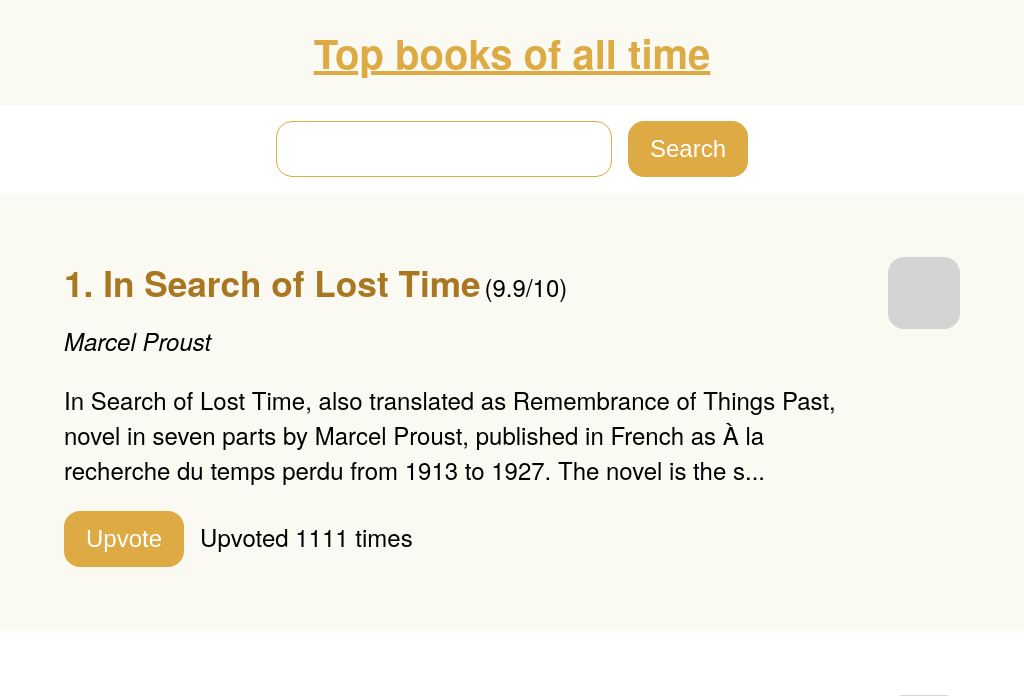
Test: Top books › Checks if search filters the list
This screenshot has width=1024, height=696.
Step 1. Type "if" into the field → (444, 149), box [276, 121, 612, 177]
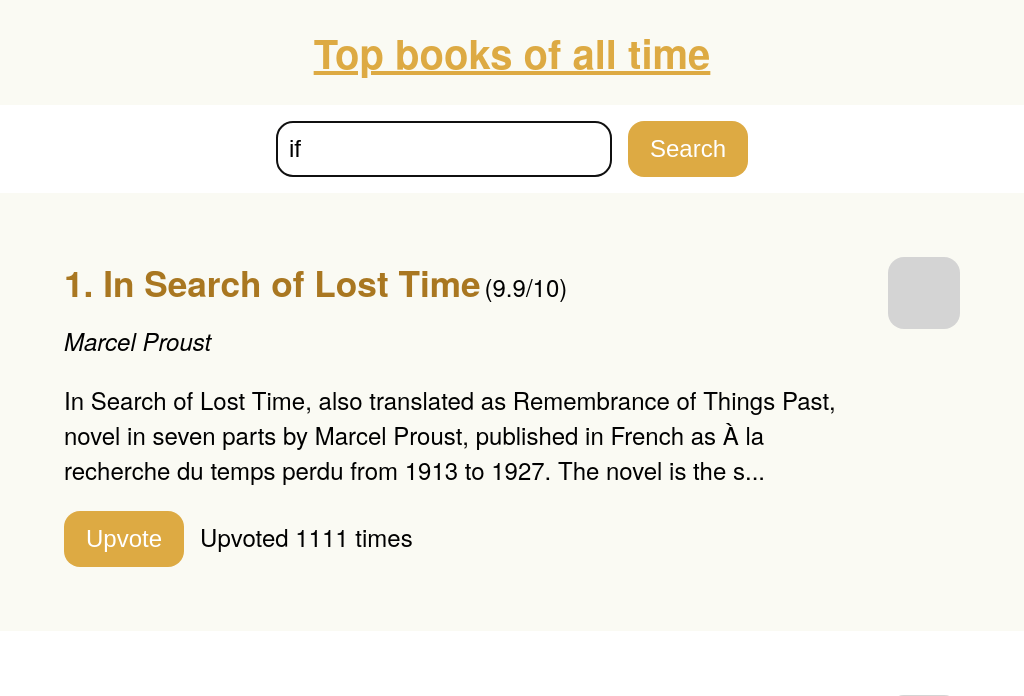
Step 2. Click the button "Search" → (688, 149), box [628, 121, 748, 177]
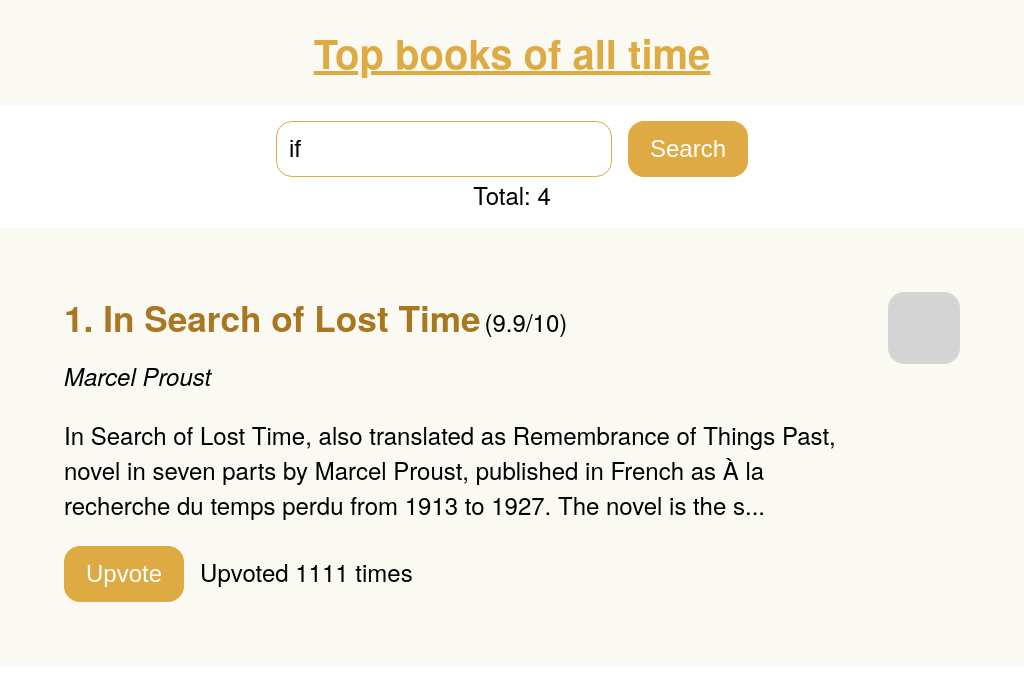
Result: the text "Total: 4" is shown at [473, 177, 551, 212]
